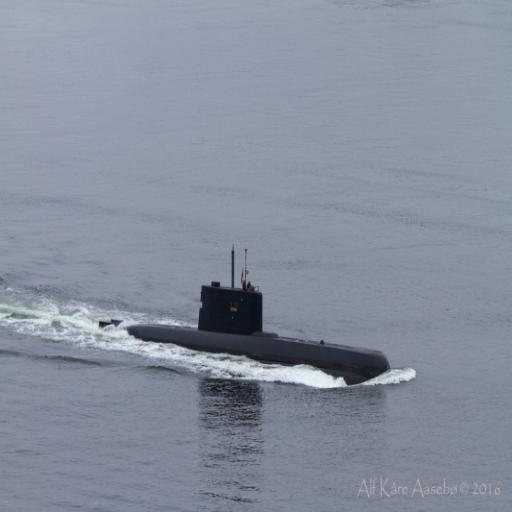submarine: (80, 244, 399, 383)
